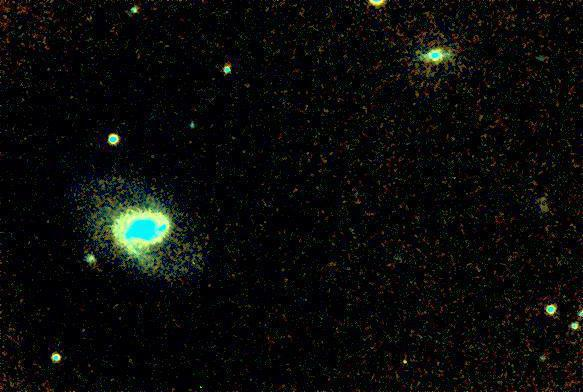star: (389, 349, 419, 379)
